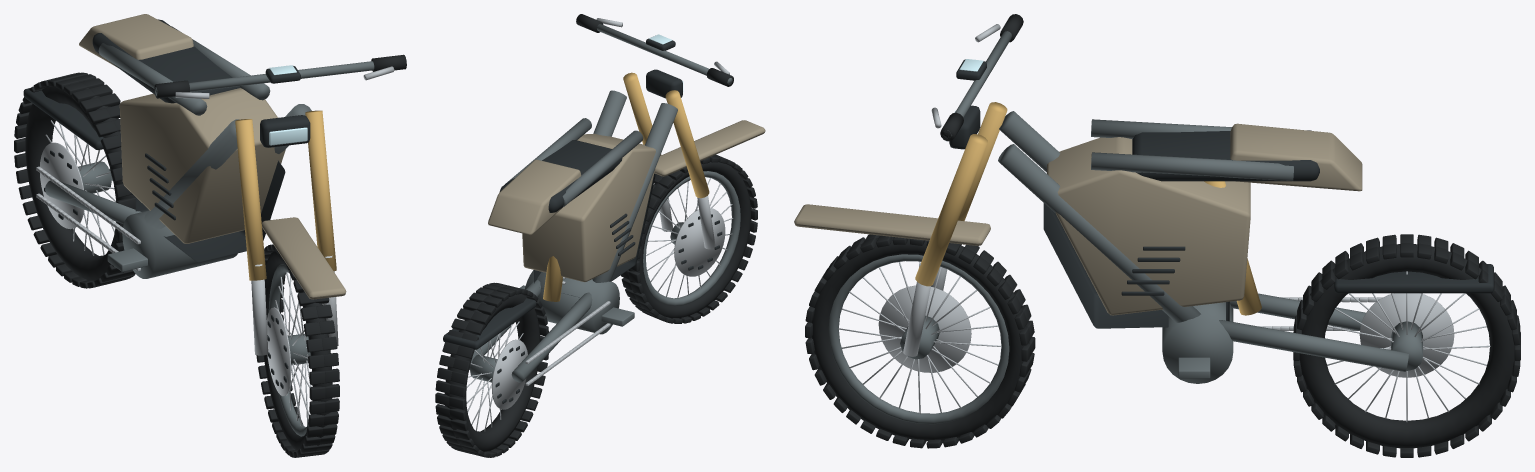
File: Ebike_ultra.glb
3 views of the same model, side by side, from view 1: azimuth 30°, elevation 25°; view 2: azimuth 150°, elevation 25°; view 3: azimuth 270°, elevation 25° (orthographic). The views are drawn at different scales.
Visible parts, largest first — view 1: Sculpted fairing, Tire.001, Box swingarm, Tire, Battery case, Inverted fork upper, Front mudguard, Steel spoke, Steel spoke.024, Fork stanchion, Handlebar, Rim (+5 smaller); view 2: Sculpted fairing, Box swingarm, Tire.001, Tire, Battery case, Steel spoke, Inverted fork upper, Steel spoke.024, Rim, Front mudguard, Fork stanchion, Handlebar (+5 smaller); view 3: Sculpted fairing, Box swingarm, Tire.001, Tire, Battery case, Steel spoke, Steel spoke.024, Rim, Inverted fork upper, Front mudguard, Fork stanchion, Rim.001 (+4 smaller).
Part boxes in pixels (x1,y1,x2,y2): Sculpted fairing: (79, 14, 285, 243); Tire.001: (14, 72, 135, 288); Box swingarm: (45, 26, 311, 278); Tire: (256, 244, 339, 457); Battery case: (23, 19, 285, 262); Inverted fork upper: (235, 110, 336, 280); Front mudguard: (262, 217, 346, 299); Steel spoke: (266, 272, 311, 426); Steel spoke.024: (40, 120, 115, 255); Fork stanchion: (175, 66, 394, 355); Handlebar: (155, 61, 374, 95); Rim: (268, 264, 310, 436); Sculpted fairing: (488, 133, 655, 282); Box swingarm: (469, 90, 677, 382); Tire.001: (435, 282, 548, 457); Tire: (621, 154, 757, 323); Battery case: (443, 140, 655, 349); Steel spoke: (646, 178, 733, 298); Inverted fork upper: (623, 72, 709, 198); Steel spoke.024: (466, 321, 527, 431); Rim: (643, 171, 740, 305); Front mudguard: (654, 120, 765, 176); Fork stanchion: (596, 18, 729, 249); Handlebar: (597, 24, 732, 84); Sculpted fairing: (1047, 123, 1362, 315); Box swingarm: (998, 111, 1408, 383); Tire.001: (1293, 234, 1520, 457); Tire: (805, 234, 1035, 448); Battery case: (1043, 130, 1493, 328); Steel spoke: (838, 261, 1001, 414); Steel spoke.024: (1327, 271, 1490, 422); Rim: (828, 254, 1009, 424); Inverted fork upper: (915, 102, 1007, 286); Front mudguard: (794, 204, 990, 245); Fork stanchion: (903, 24, 1000, 356); Rim.001: (1391, 321, 1422, 370).
Bounding box in the file's own units: 0.7666 × 1.19 × 2.05.
